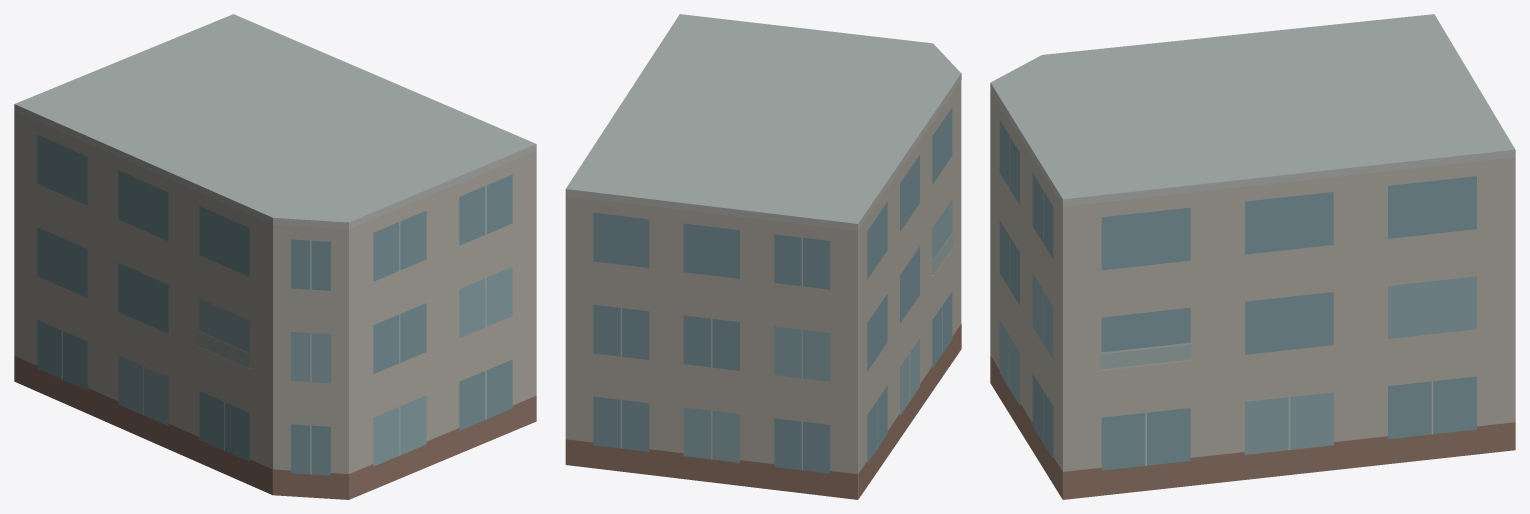
File: survey-upis-32913386.glb
3 views of the same model, side by side, from view 1: azimuth 30°, elevation 25°; view 2: azimuth 150°, elevation 25°; view 3: azimuth 270°, elevation 25° (orthographic). The views are drawn at different scales.
Parts seen in each view (by area): view 1: survey-upis-32913386.tmp; view 2: survey-upis-32913386.tmp; view 3: survey-upis-32913386.tmp.
Part boxes in pixels (x1,y1,x2,y2): survey-upis-32913386.tmp: (14, 14, 536, 499); survey-upis-32913386.tmp: (565, 14, 961, 499); survey-upis-32913386.tmp: (990, 14, 1515, 499).
Bounding box in the file's own units: 12.98 × 9.8 × 15.53.
